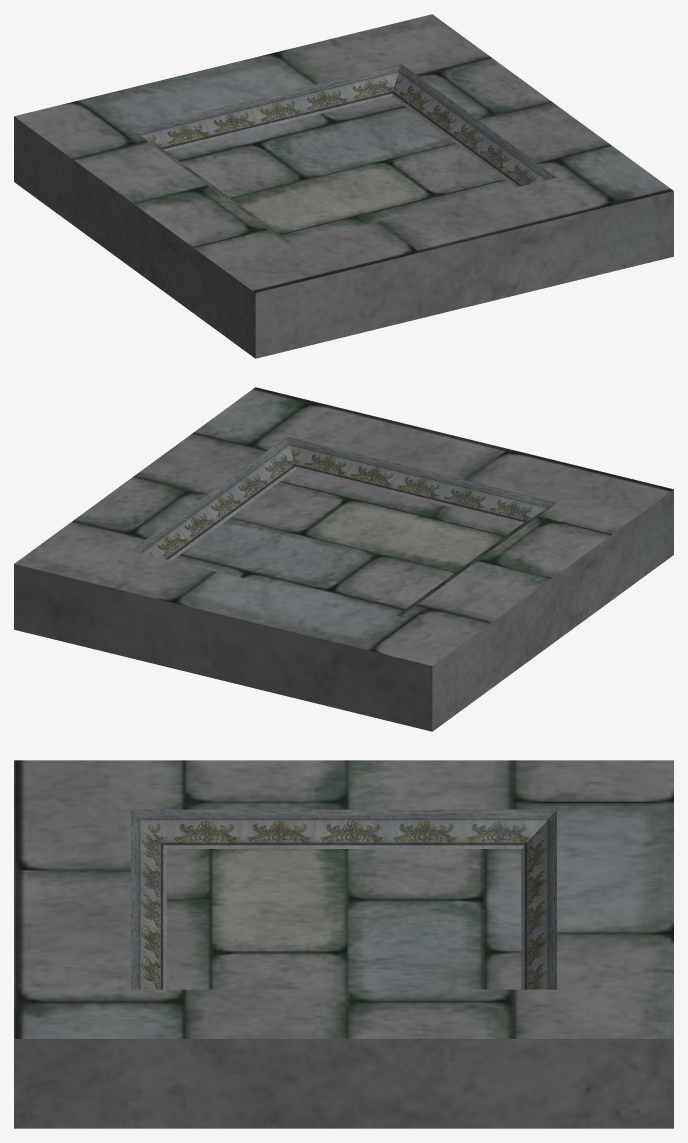
The model's file is flat_ceiling_small_01.glb.
The picture shows the model from 3 angles, top to bottom: view 1: azimuth 30°, elevation 25°; view 2: azimuth 150°, elevation 25°; view 3: azimuth 270°, elevation 25°; orthographic projection. The views are drawn at different scales.
Parts seen in each view (by area): view 1: flat_ceiling_small_01; view 2: flat_ceiling_small_01; view 3: flat_ceiling_small_01.
Part boxes in pixels (left/top/right/bottom): flat_ceiling_small_01: left=14, top=14, right=673, bottom=358; flat_ceiling_small_01: left=14, top=387, right=673, bottom=731; flat_ceiling_small_01: left=14, top=760, right=673, bottom=1128.
Size of the model in its own units: 2 by 0.3 by 2.
Materials: 1 (1 with a texture image).
